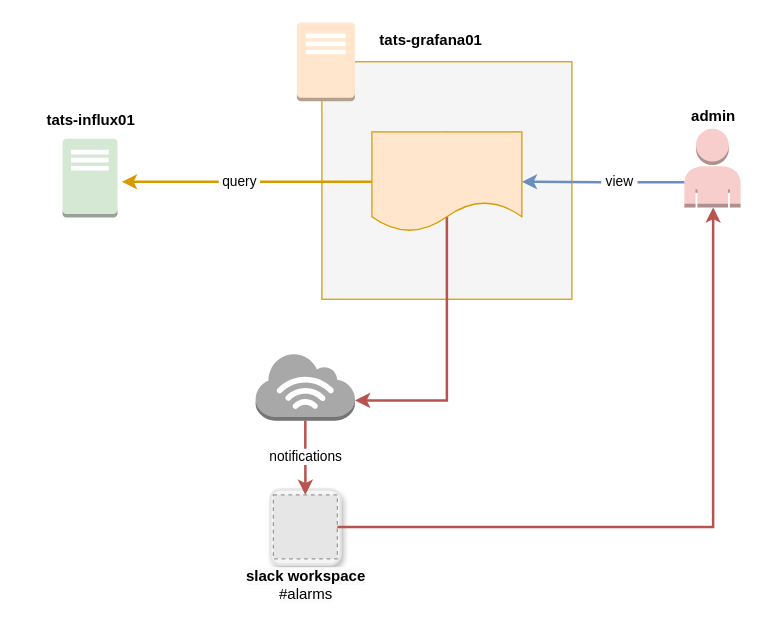
This 763x625 diagram has some shape labels left out. Grey dashed boxes stand in for pictures. The shapes that lost their labels are listed below. From the top down, each one's centre as x and y in pixels, then its label:
At (446,181): "grafana dashboards".
At (304,386): "WAN".
